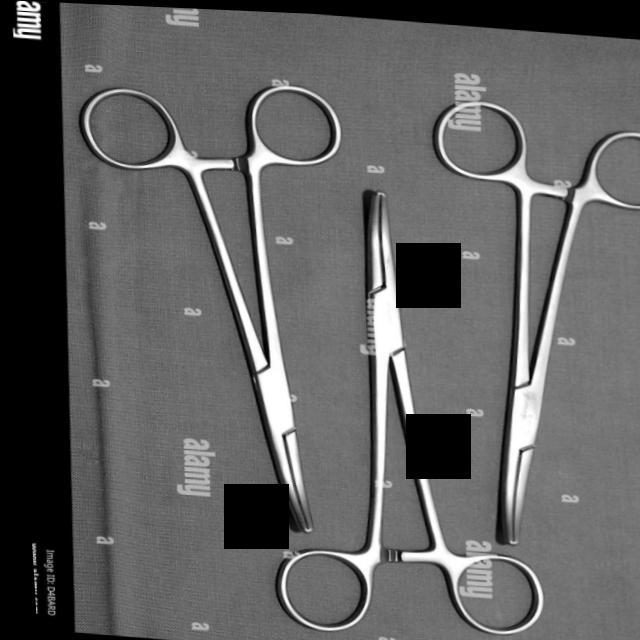Artery Forceps: (56, 60, 368, 541), (250, 175, 566, 640), (406, 82, 640, 557)
